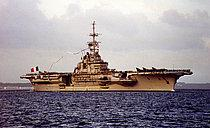MIL_Ship: (20, 31, 197, 94)
